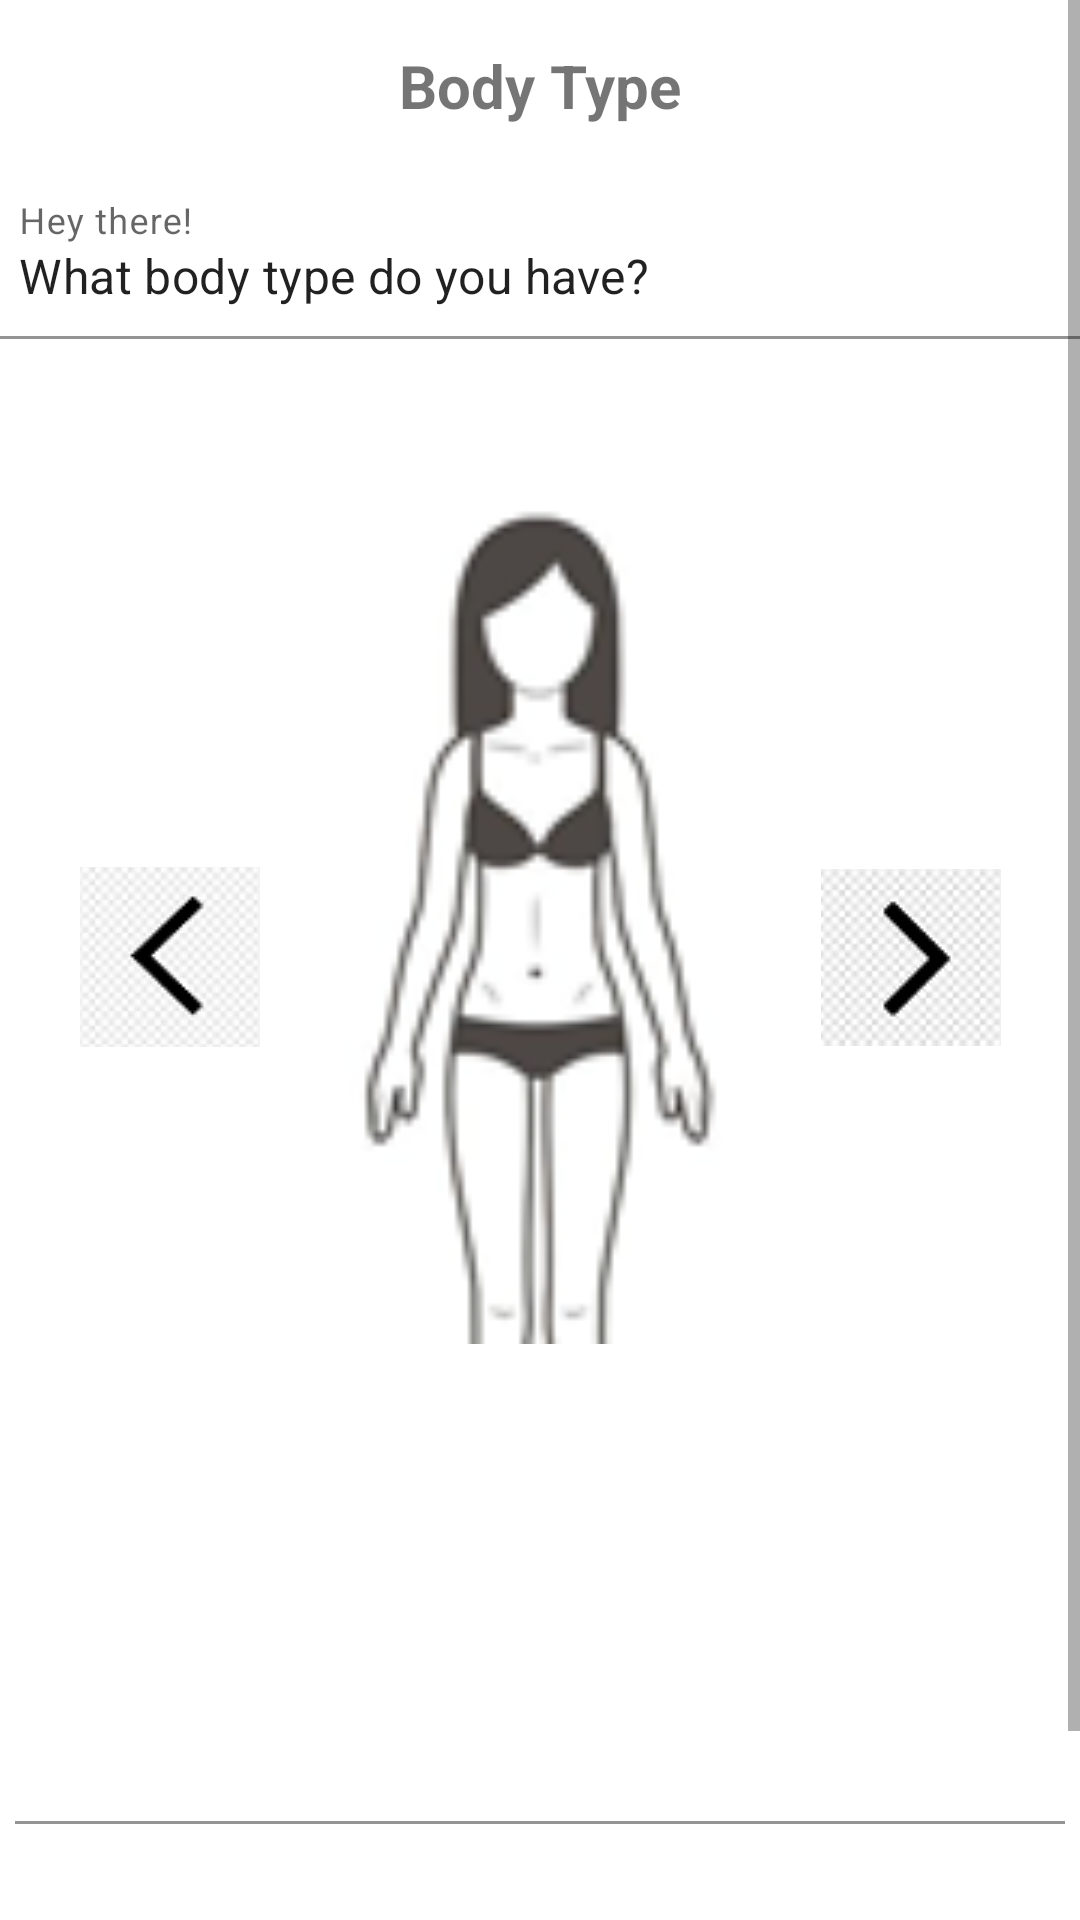

Point at icon controls on the screen. Image size 1080x1920, points as (x,y).
myleft: (170,957)
rightmy: (911,957)
